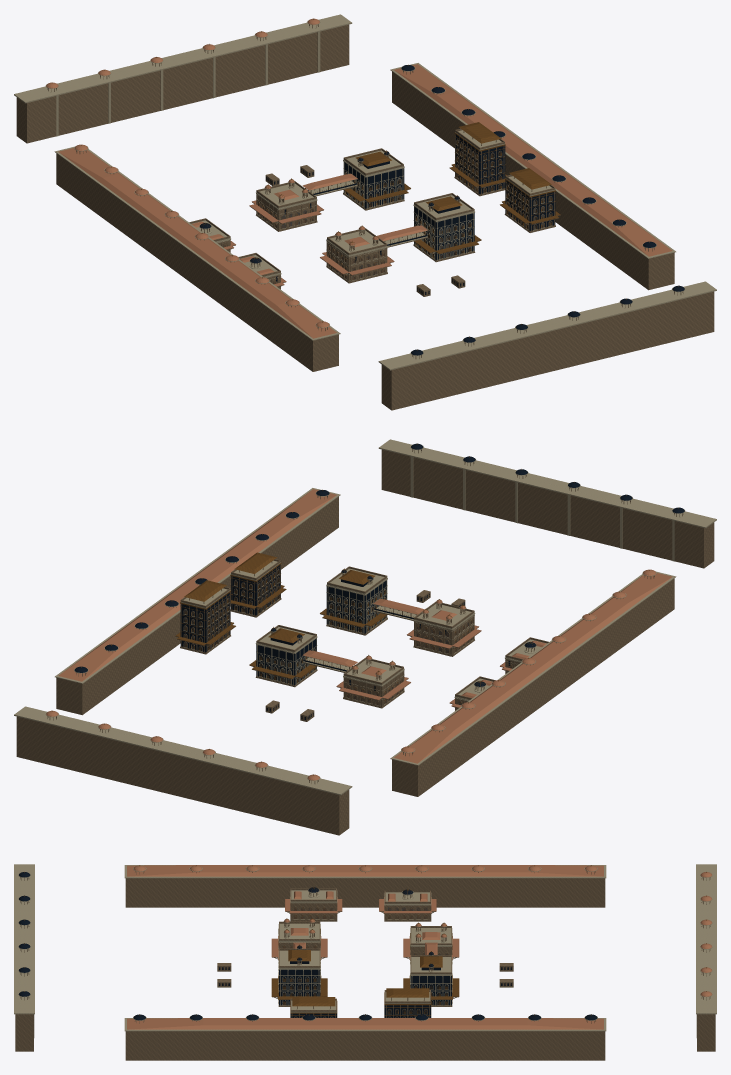
Rendered from sangam-district.glb.
3 views of the same model, one above another, from view 1: azimuth 30°, elevation 25°; view 2: azimuth 150°, elevation 25°; view 3: azimuth 270°, elevation 25° (orthographic). The views are drawn at different scales.
Parts seen in each view (by area): view 1: VISTA_SouthCourt, VISTA_NorthCourt, VISTA_West, VISTA_East, BASE_Block_6, BASE_Block_3, BASE_Block_2, BASE_Block_7, SOLID_Overhead_1, SOLID_Overhead_0, BASE_Block_1, SOLID_Overhead_3 (+6 smaller); view 2: VISTA_NorthCourt, VISTA_SouthCourt, VISTA_West, VISTA_East, BASE_Block_3, BASE_Block_6, BASE_Block_2, BASE_Block_7, SOLID_Overhead_1, SOLID_Overhead_0, BASE_Block_1, SOLID_Overhead_2 (+6 smaller); view 3: VISTA_East, VISTA_West, VISTA_SouthCourt, VISTA_NorthCourt, BASE_Block_3, SOLID_Overhead_3, SOLID_Overhead_1, SOLID_Overhead_2, SOLID_Overhead_0, SOLID_Overhead_5, SOLID_Overhead_4, BASE_Block_2 (+6 smaller).
Boxes of the visible parts, bbox=[...] form: VISTA_SouthCourt: bbox=[14, 14, 352, 143]; VISTA_NorthCourt: bbox=[378, 281, 716, 410]; VISTA_West: bbox=[54, 144, 340, 371]; VISTA_East: bbox=[390, 63, 675, 290]; BASE_Block_6: bbox=[454, 132, 505, 196]; BASE_Block_3: bbox=[413, 204, 475, 262]; BASE_Block_2: bbox=[343, 160, 404, 210]; BASE_Block_7: bbox=[504, 178, 555, 232]; SOLID_Overhead_1: bbox=[320, 225, 394, 275]; SOLID_Overhead_0: bbox=[249, 178, 323, 223]; BASE_Block_1: bbox=[326, 239, 387, 283]; SOLID_Overhead_3: bbox=[414, 193, 481, 254]; VISTA_NorthCourt: bbox=[378, 439, 716, 568]; VISTA_SouthCourt: bbox=[14, 706, 352, 835]; VISTA_West: bbox=[390, 569, 676, 796]; VISTA_East: bbox=[55, 488, 340, 715]; BASE_Block_3: bbox=[326, 578, 387, 635]; BASE_Block_6: bbox=[180, 590, 230, 654]; BASE_Block_2: bbox=[255, 636, 317, 687]; BASE_Block_7: bbox=[230, 562, 281, 617]; SOLID_Overhead_1: bbox=[407, 599, 481, 648]; SOLID_Overhead_0: bbox=[336, 655, 410, 700]; BASE_Block_1: bbox=[413, 613, 475, 656]; SOLID_Overhead_2: bbox=[249, 625, 316, 679]; VISTA_East: bbox=[124, 1014, 606, 1060]; VISTA_West: bbox=[124, 865, 606, 907]; VISTA_SouthCourt: bbox=[696, 864, 716, 1051]; VISTA_NorthCourt: bbox=[14, 864, 34, 1051]; BASE_Block_3: bbox=[278, 951, 320, 1006]; SOLID_Overhead_3: bbox=[271, 944, 327, 999]; SOLID_Overhead_1: bbox=[271, 918, 327, 959]; SOLID_Overhead_2: bbox=[403, 951, 459, 999]; SOLID_Overhead_0: bbox=[403, 922, 459, 959]; SOLID_Overhead_5: bbox=[285, 887, 342, 914]; SOLID_Overhead_4: bbox=[379, 889, 436, 914]; BASE_Block_2: bbox=[410, 957, 452, 1006].
Size of the model in its own units: 167 by 23.08 by 299.
7 materials, 4 textured.
